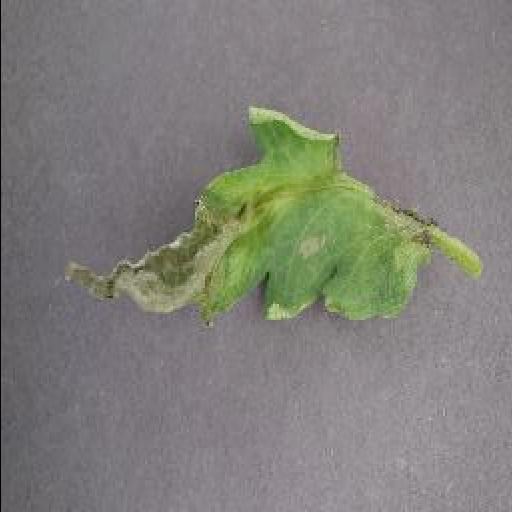disease_tomato: (64, 100, 434, 326)
